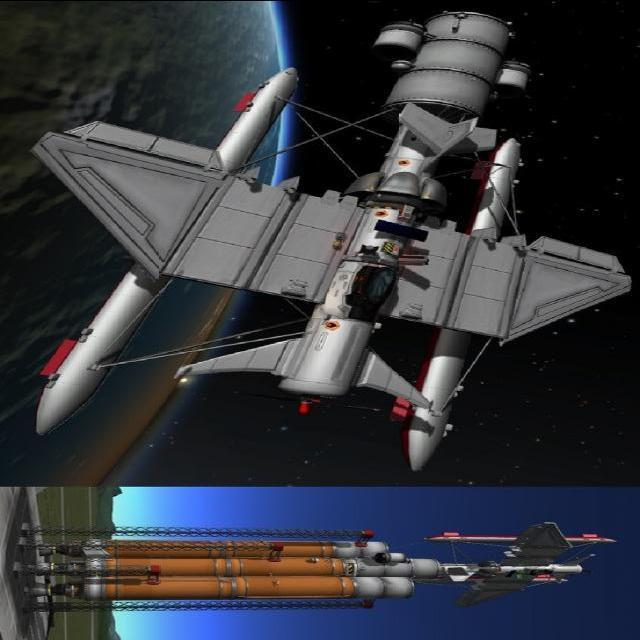Missile: (17, 255, 178, 446), (89, 546, 448, 578), (76, 572, 418, 602), (422, 532, 624, 544)
